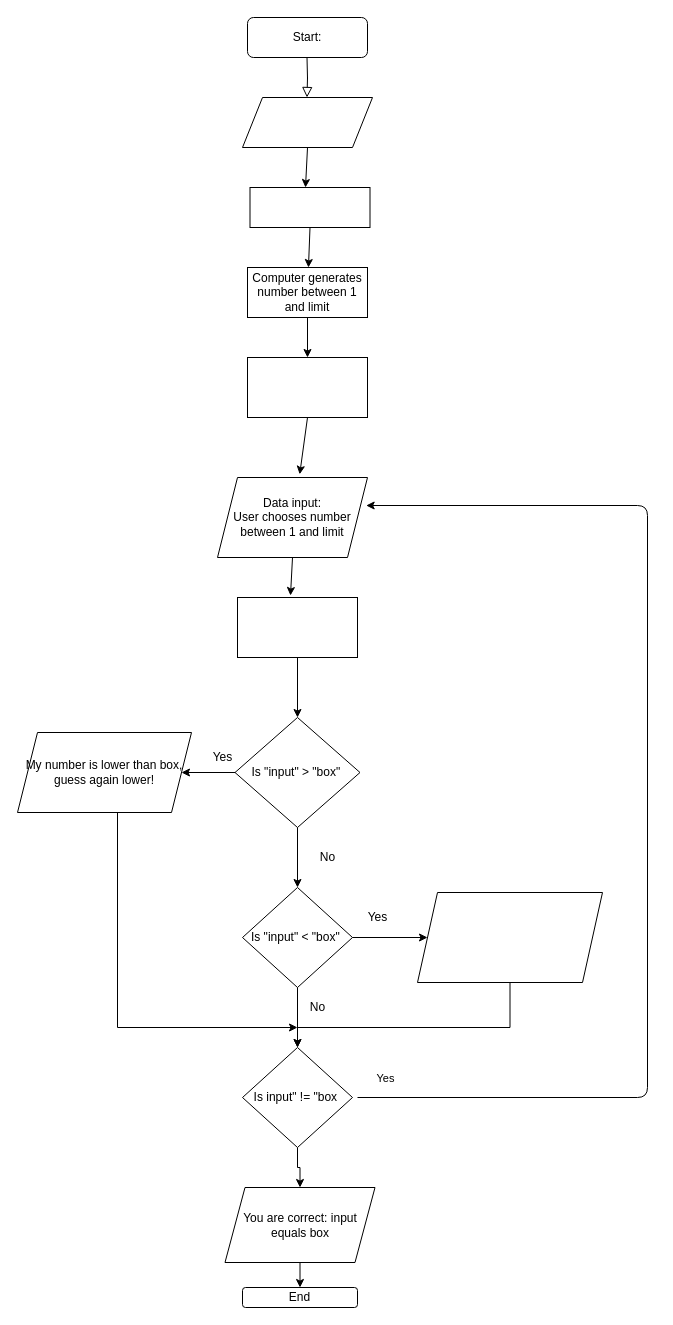
This 673x1325 diagram has some shape labels left out. The box of each missing label's shape, as (x1, y1, x2, y2) in pixels:
Computer stores number in variable "box": (246, 356, 368, 418)
Data input is stored in variable "input": (236, 596, 358, 658)
My number is higher than box, guess again higher!: (416, 892, 602, 982)
Upper limit is stored in variable "limit": (249, 186, 370, 228)
User decides upper limit: (242, 96, 372, 148)
